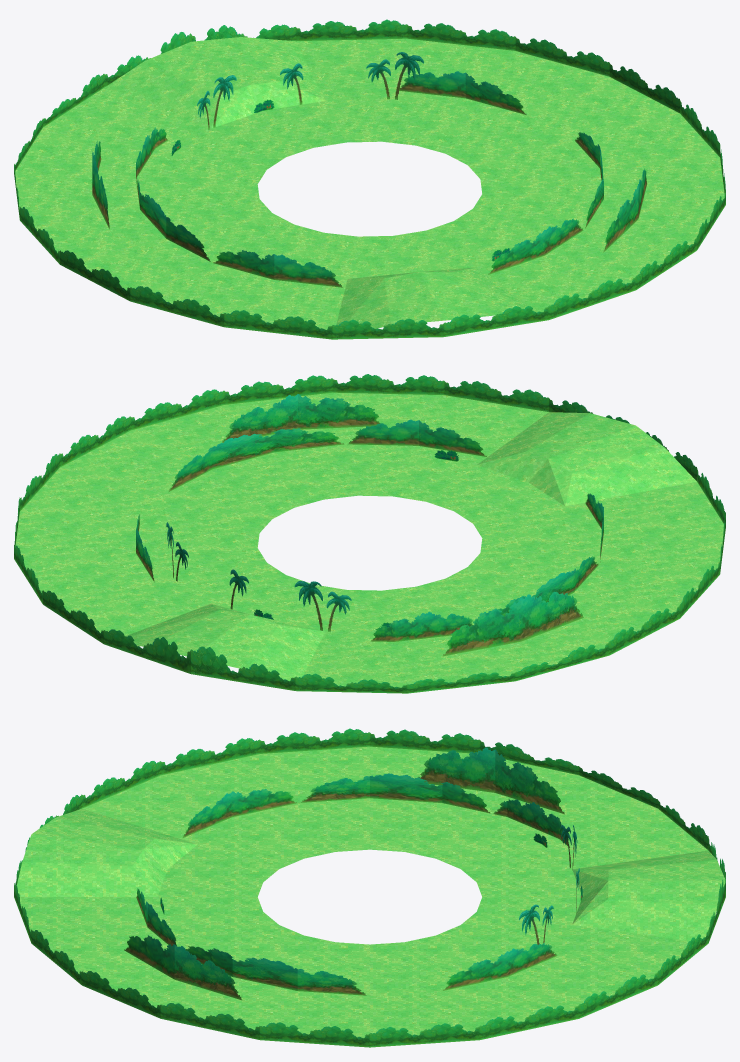
Rendered from grass_extension.glb.
3 views of the same model, one above another, from view 1: azimuth 30°, elevation 25°; view 2: azimuth 150°, elevation 25°; view 3: azimuth 270°, elevation 25° (orthographic).
Visible parts, largest first — view 1: btl_N_kusa_jime01_OptMesh, btl_N_kusa_mori01_OptMesh, btl_N_kusa_oka01_OptMesh, btl_N_kusa_yasi01_OptMesh; view 2: btl_N_kusa_jime01_OptMesh, btl_N_kusa_mori01_OptMesh, btl_N_kusa_oka01_OptMesh, btl_N_kusa_yasi01_OptMesh; view 3: btl_N_kusa_jime01_OptMesh, btl_N_kusa_oka01_OptMesh, btl_N_kusa_mori01_OptMesh, btl_N_kusa_yasi01_OptMesh.
Boxes of the visible parts, left/top/right/bottom form: btl_N_kusa_jime01_OptMesh: left=15, top=37, right=724, bottom=329; btl_N_kusa_mori01_OptMesh: left=14, top=19, right=725, bottom=339; btl_N_kusa_oka01_OptMesh: left=92, top=71, right=646, bottom=287; btl_N_kusa_yasi01_OptMesh: left=171, top=52, right=510, bottom=261; btl_N_kusa_jime01_OptMesh: left=15, top=392, right=723, bottom=687; btl_N_kusa_mori01_OptMesh: left=14, top=374, right=725, bottom=693; btl_N_kusa_oka01_OptMesh: left=136, top=394, right=603, bottom=656; btl_N_kusa_yasi01_OptMesh: left=166, top=450, right=458, bottom=631; btl_N_kusa_jime01_OptMesh: left=16, top=746, right=725, bottom=1037; btl_N_kusa_oka01_OptMesh: left=124, top=747, right=569, bottom=1000; btl_N_kusa_mori01_OptMesh: left=14, top=728, right=725, bottom=1047; btl_N_kusa_yasi01_OptMesh: left=160, top=825, right=582, bottom=944.
Size of the model in its own units: 7428 by 615 by 7428.
Materials: 4 (4 with a texture image).
